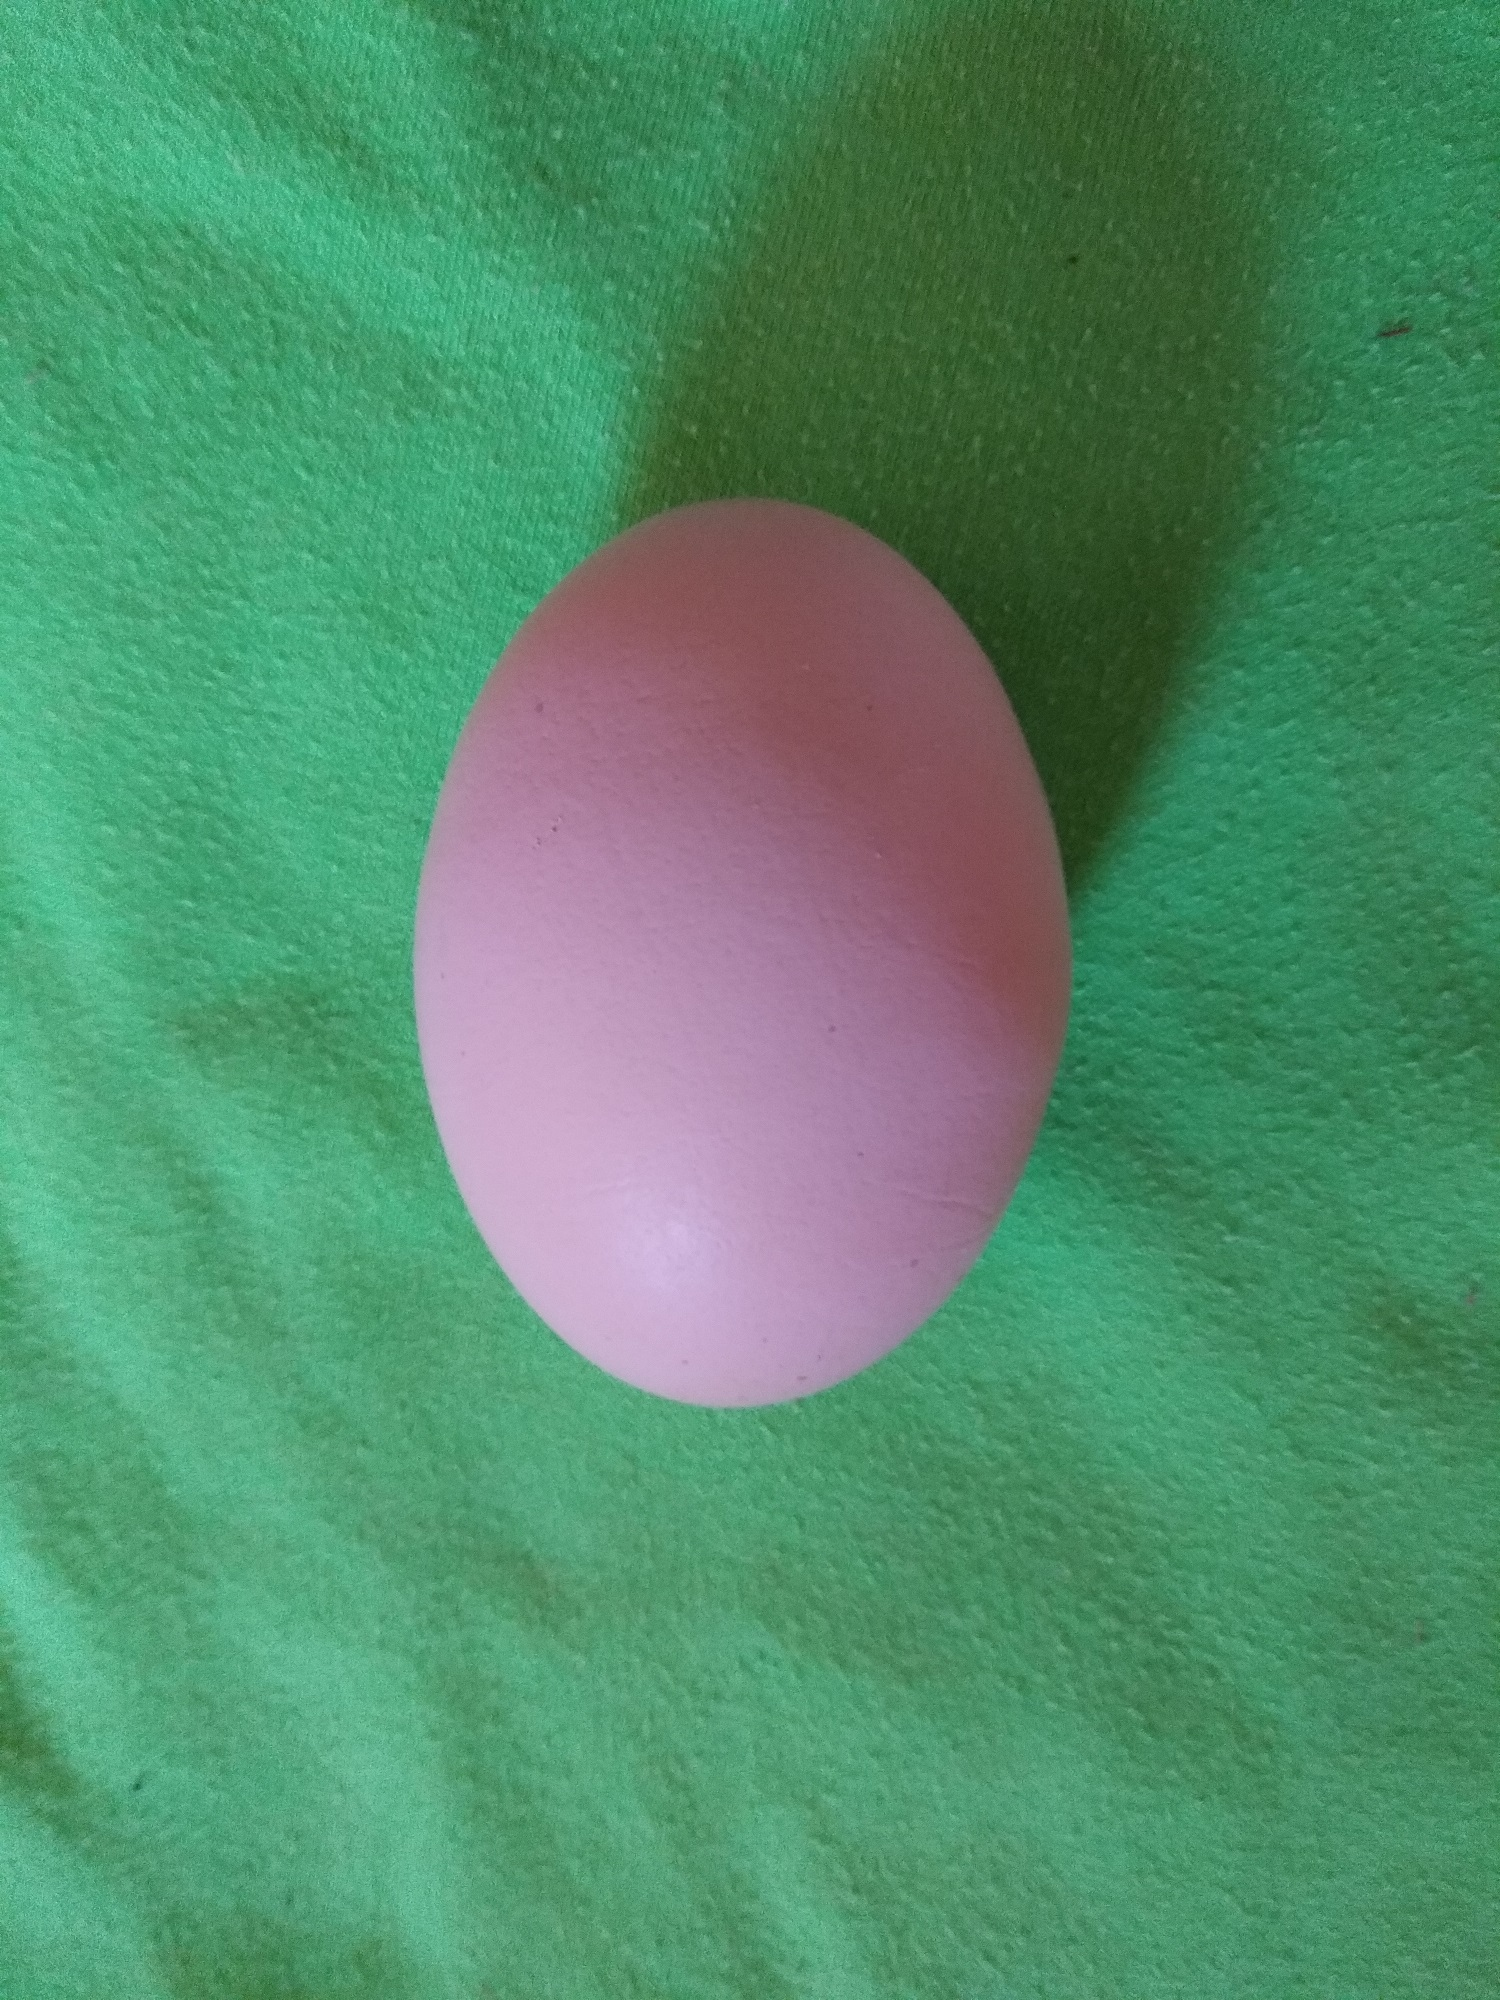Female: (403, 491, 1081, 1422)
